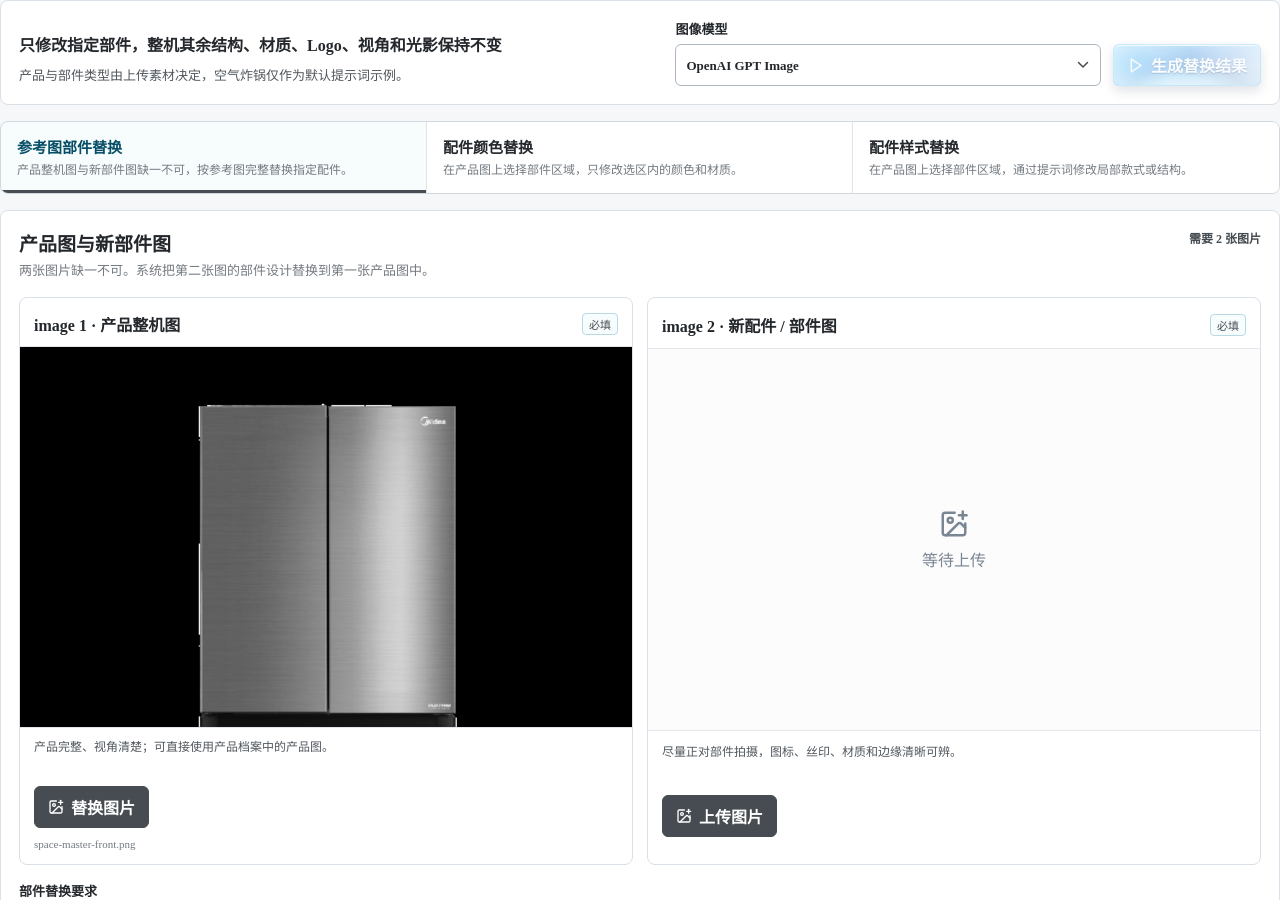
Test: SkuReplacementStudio › clears the selection between mask modes and can undo canvas edits
Click the tab "配件颜色替换 在产品图上选择部件区域，只修改选区内的颜色和材质。" at x=488, y=148, box [427, 122, 853, 193]
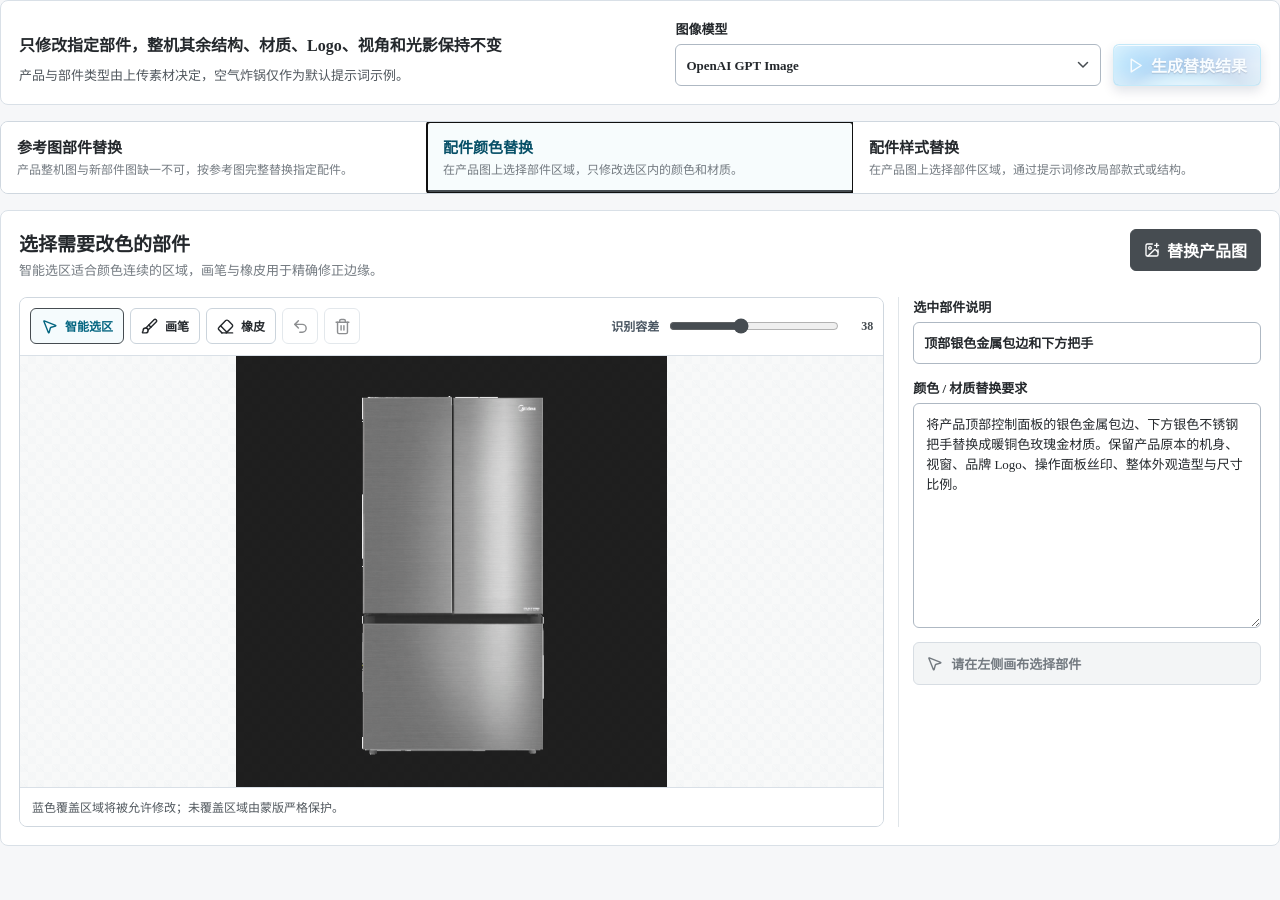
Expected: the button named "撤销上一步" is disabled, [282, 308, 318, 344]
Press the mouse on the drawing named "SKU 部件选区画布" at x=452, y=572, box [20, 356, 883, 788]
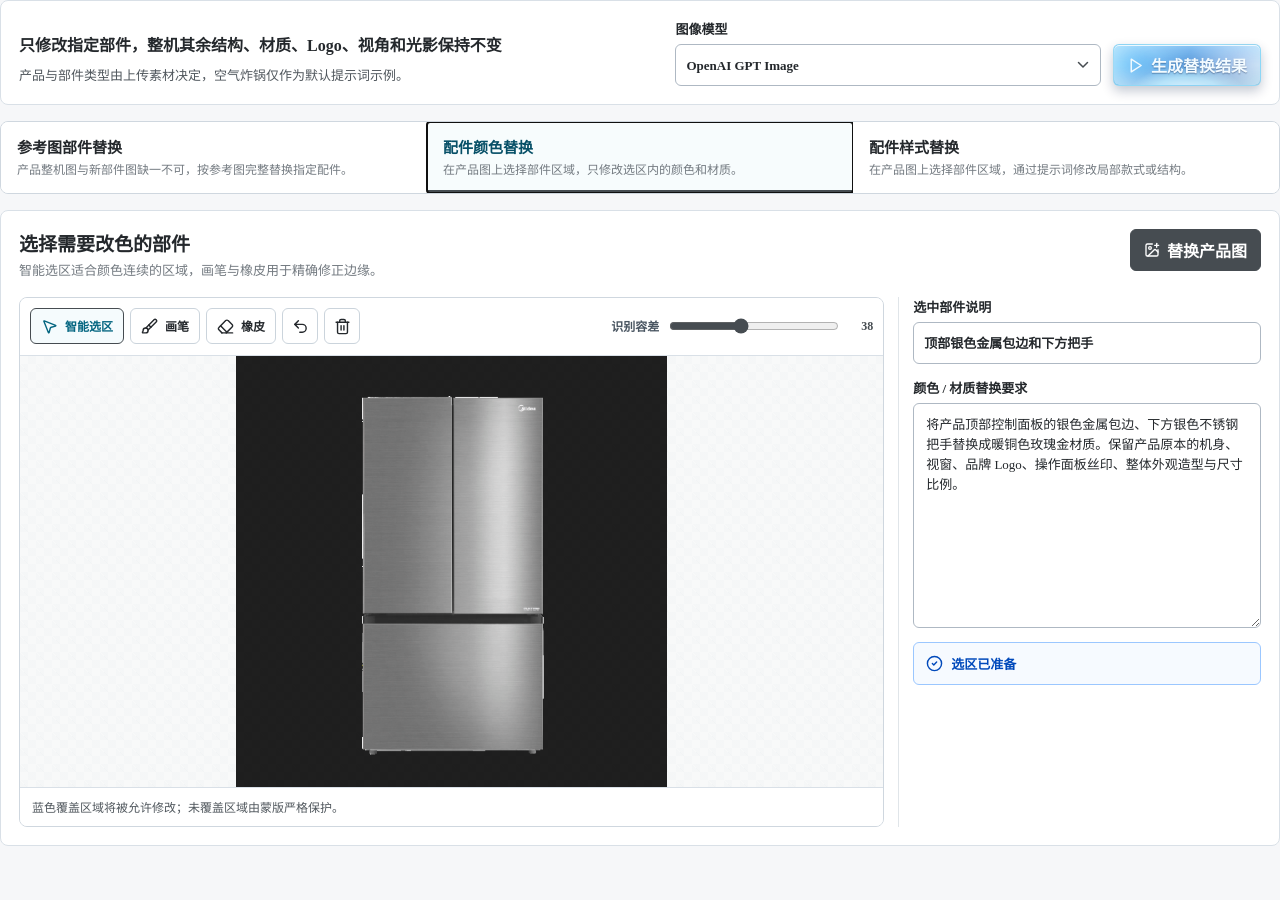
Expected: the text "选区已准备" is shown, [913, 642, 1261, 685]
Expected: the button named "撤销上一步" is enabled
Click the button named "撤销上一步" at x=300, y=326, box [282, 308, 318, 344]
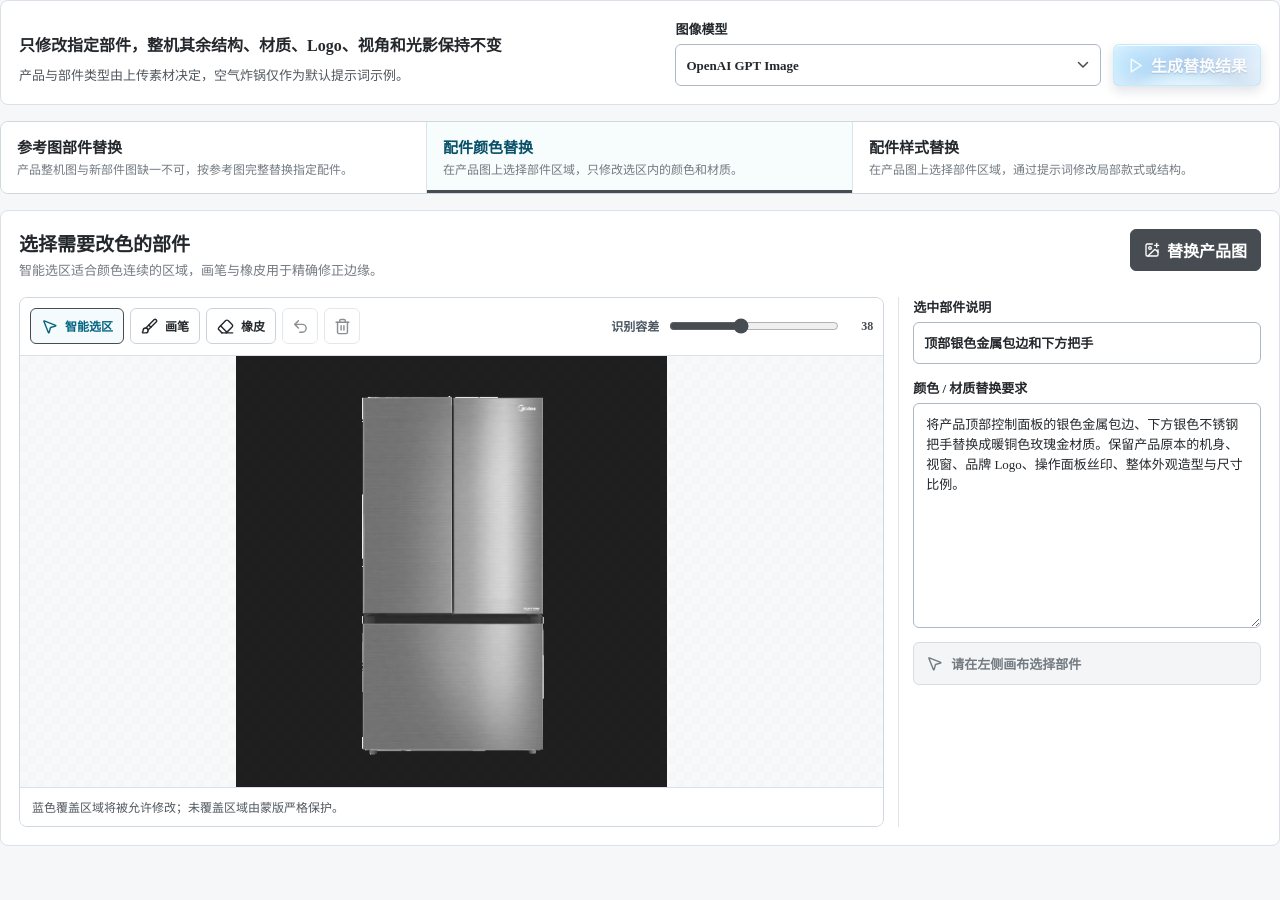
Expected: the text "请在左侧画布选择部件" is shown, [913, 642, 1261, 685]
Expected: the button named "撤销上一步" is disabled, [282, 308, 318, 344]
Press the mouse on the drawing named "SKU 部件选区画布" at x=452, y=572, box [20, 356, 883, 788]
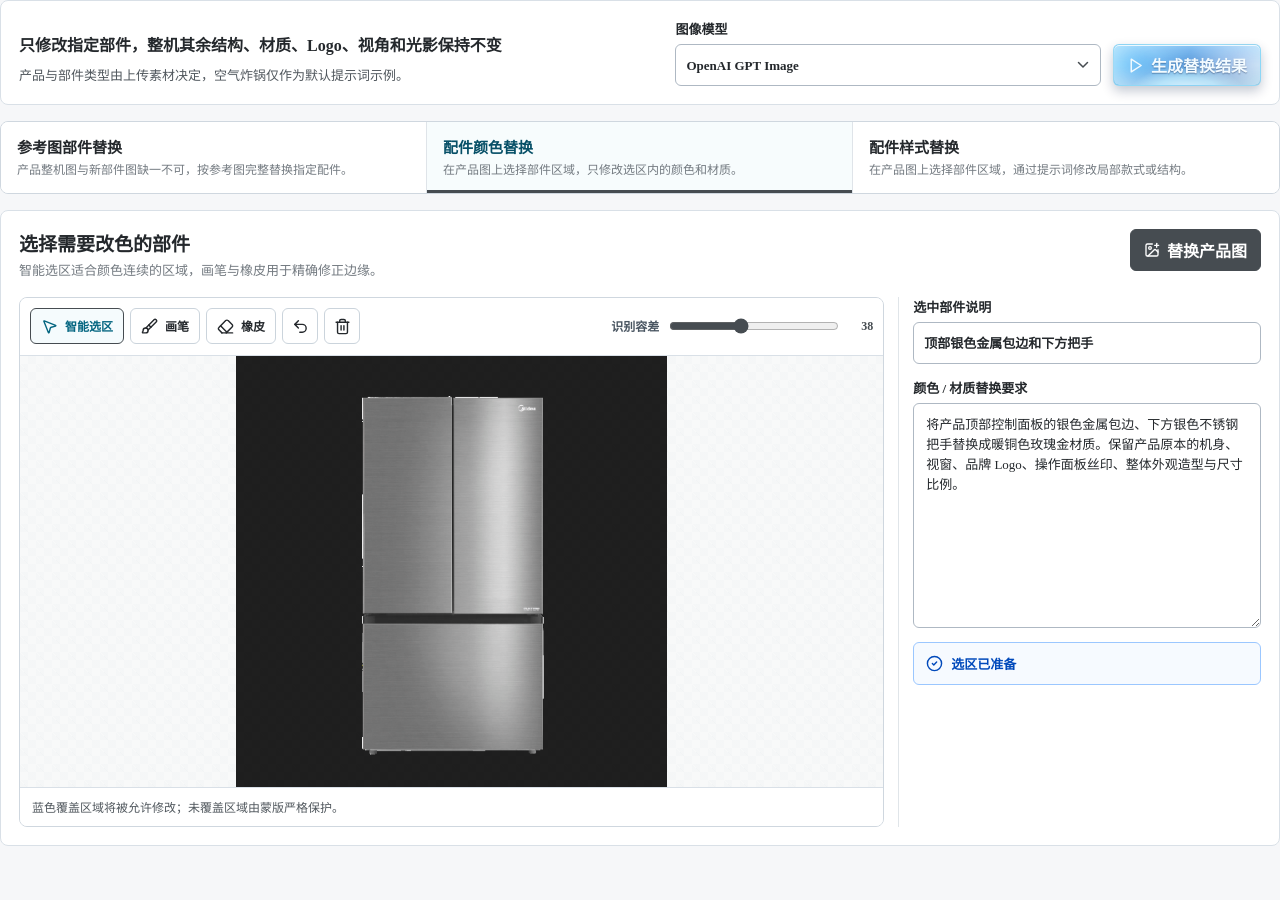
Expected: the text "选区已准备" is shown, [913, 642, 1261, 685]
Click the tab "配件样式替换 在产品图上选择部件区域，通过提示词修改局部款式或结构。" at x=914, y=148, box [853, 122, 1279, 193]
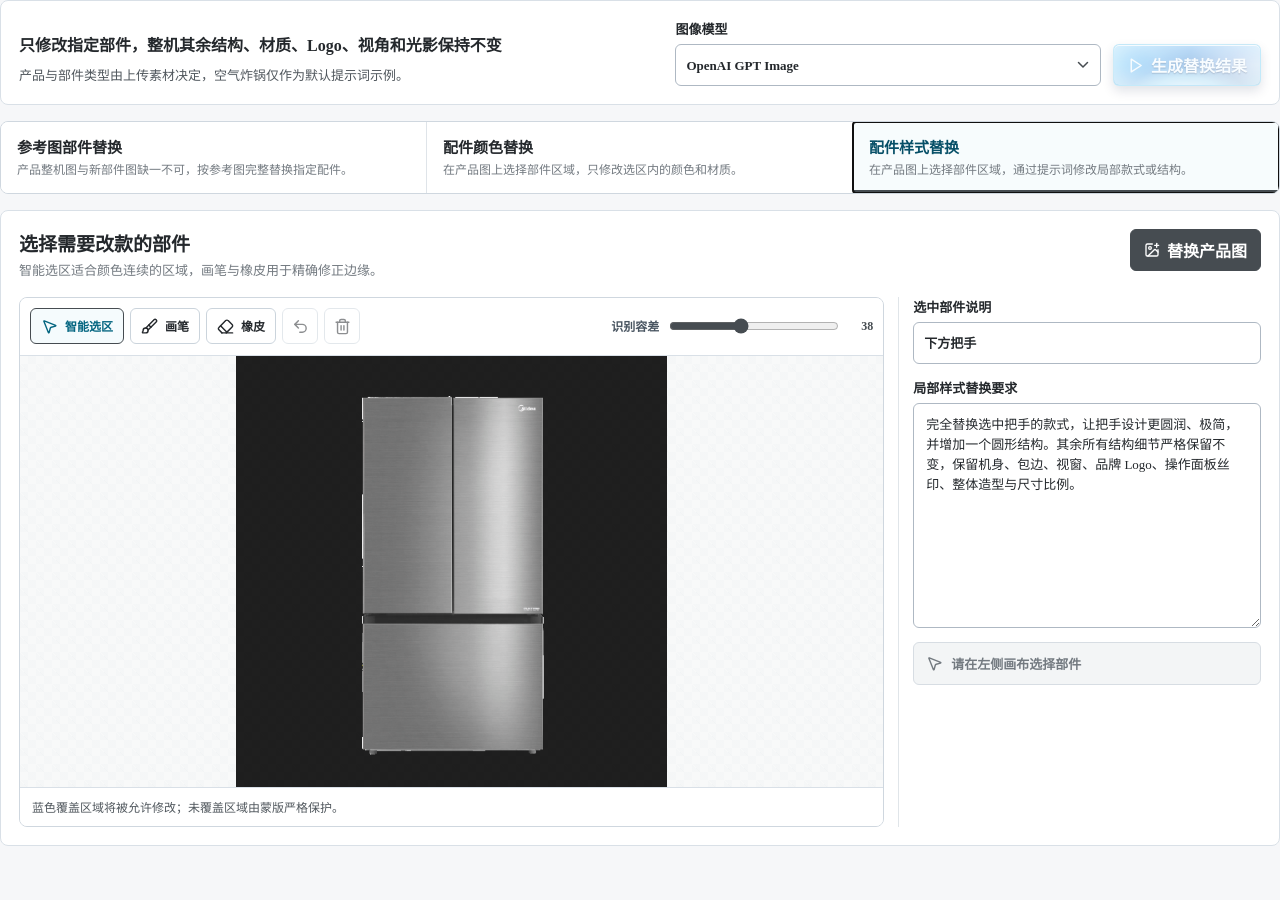
Expected: the text "请在左侧画布选择部件" is shown, [913, 642, 1261, 685]
Expected: the button named "撤销上一步" is disabled, [282, 308, 318, 344]
